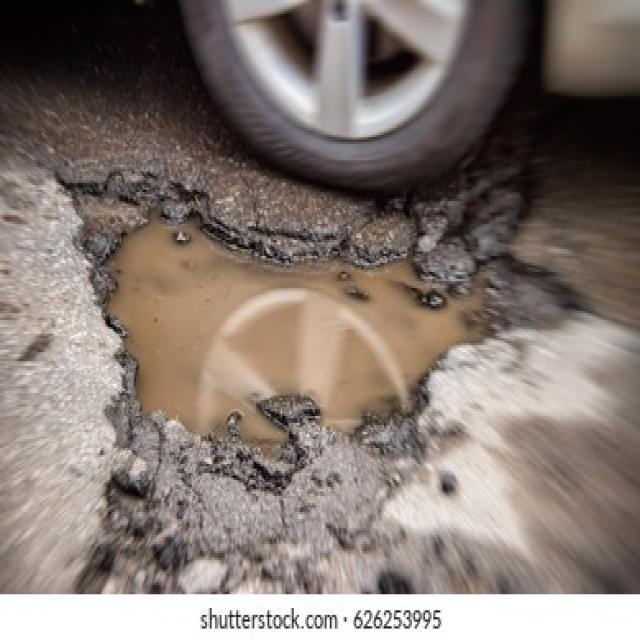Pothole: (64, 180, 509, 464)
